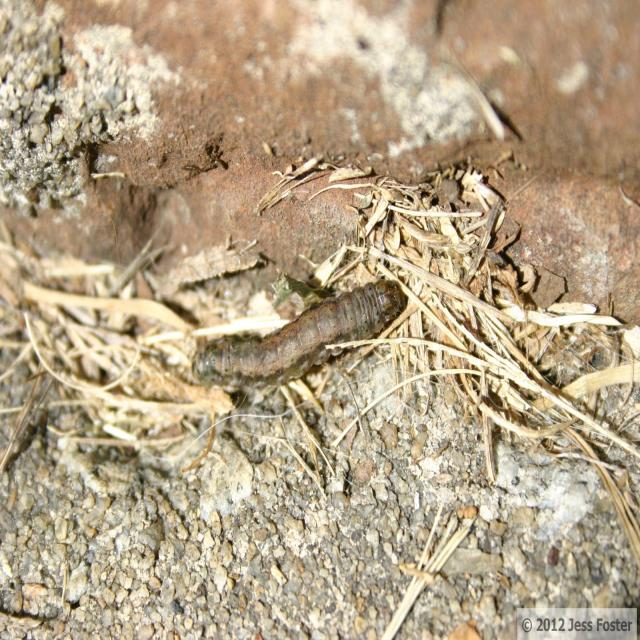pest-armyworm: (188, 269, 416, 401)
